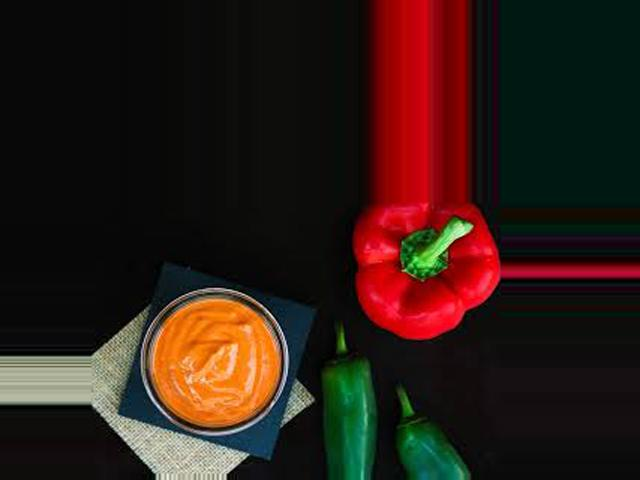bell_pepper: (351, 202, 495, 334)
